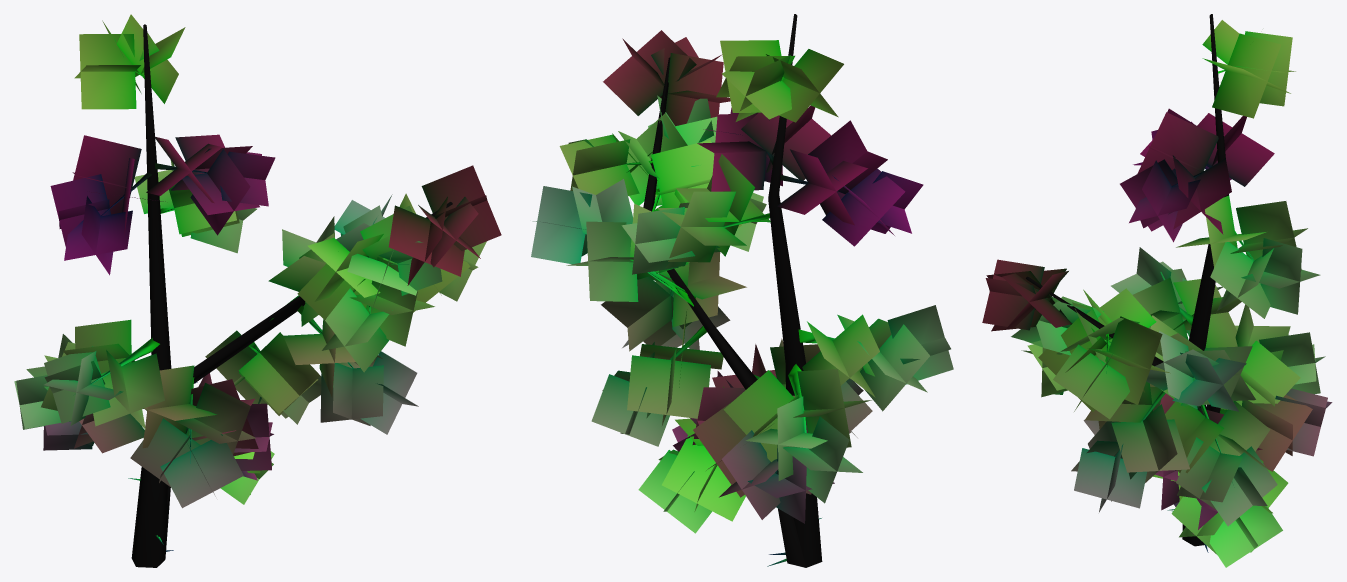
Rendered from URP_P7_Tree_15_LOD_3.fbx.
The picture shows the model from 3 angles, left to right: view 1: azimuth 30°, elevation 25°; view 2: azimuth 150°, elevation 25°; view 3: azimuth 270°, elevation 25°; orthographic projection. The views are drawn at different scales.
Parts seen in each view (by area): view 1: Tree_15_LOD_3; view 2: Tree_15_LOD_3; view 3: Tree_15_LOD_3.
Part boxes in pixels (x1,y1,x2,y2): Tree_15_LOD_3: (14,14,501,567); Tree_15_LOD_3: (531,14,953,567); Tree_15_LOD_3: (982,14,1332,567).
Bounding box in the file's own units: 396 × 498 × 298.
